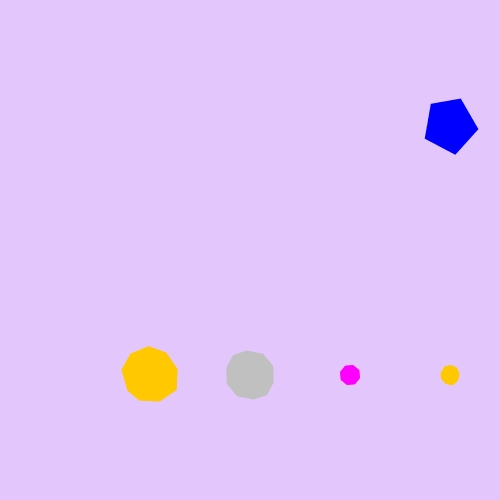decagon: (221, 348, 280, 402)
nonagon: (118, 344, 183, 406), (436, 361, 465, 389)
octagon: (335, 360, 365, 390)
pentagon: (420, 95, 481, 156)
